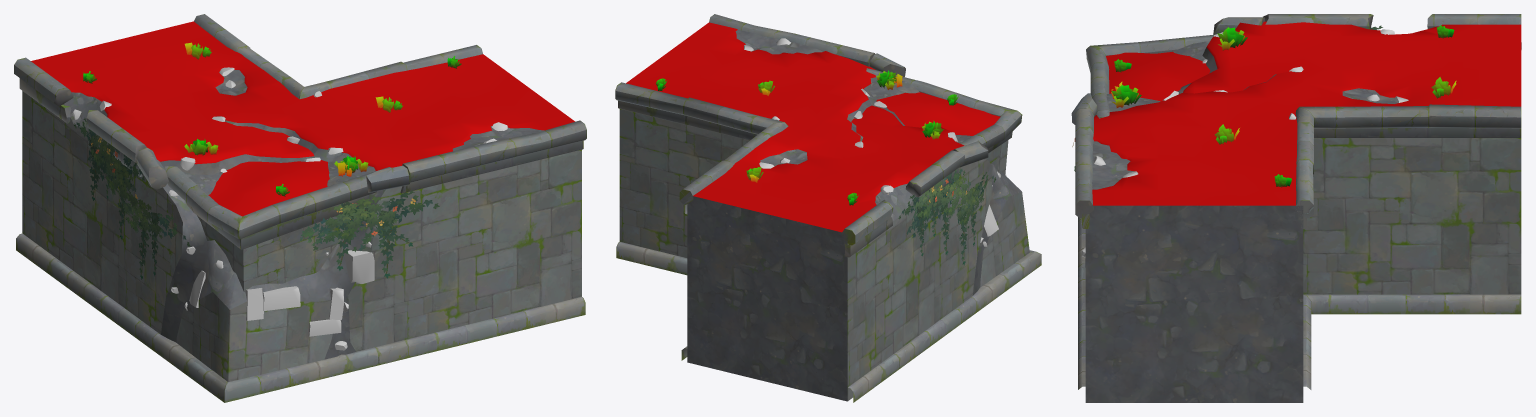
The model's file is Area_MdBuild_SdPlatform04_Group.fbx.
3 views of the same model, side by side, from view 1: azimuth 30°, elevation 25°; view 2: azimuth 150°, elevation 25°; view 3: azimuth 270°, elevation 25° (orthographic). The views are drawn at different scales.
Visible parts, largest first — view 1: Area_MdBuild_SdPlatform04_Lod0, Stages_LYLvy107_Vo (1), Stages_LYLvy106_Vo (1); view 2: Area_MdBuild_SdPlatform04_Lod0, Stages_LYLvy106_Vo (1); view 3: Area_MdBuild_SdPlatform04_Lod0, Stages_SGrass23_Vo (1), Stages_SGrass23_Vo.
Boxes of the visible parts, x1,y1,x2,y2 form: Area_MdBuild_SdPlatform04_Lod0: (14,14,586,402); Stages_LYLvy107_Vo (1): (300,190,439,278); Stages_LYLvy106_Vo (1): (74,118,190,279); Area_MdBuild_SdPlatform04_Lod0: (615,14,1041,402); Stages_LYLvy106_Vo (1): (898,169,996,265); Area_MdBuild_SdPlatform04_Lod0: (1071,14,1521,402); Stages_SGrass23_Vo (1): (1217,27,1247,50); Stages_SGrass23_Vo: (1111,84,1141,107).
Bounding box in the file's own units: 20.83 × 10.89 × 20.73.
